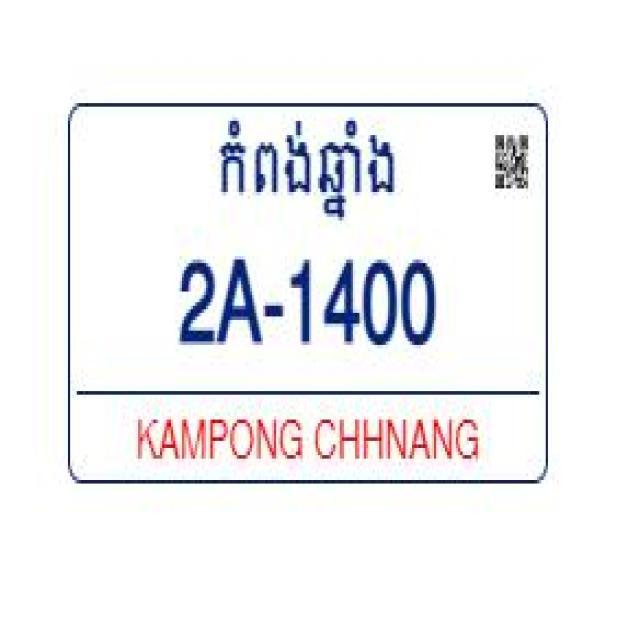Kampong_Chhnang: (211, 110, 402, 220)
